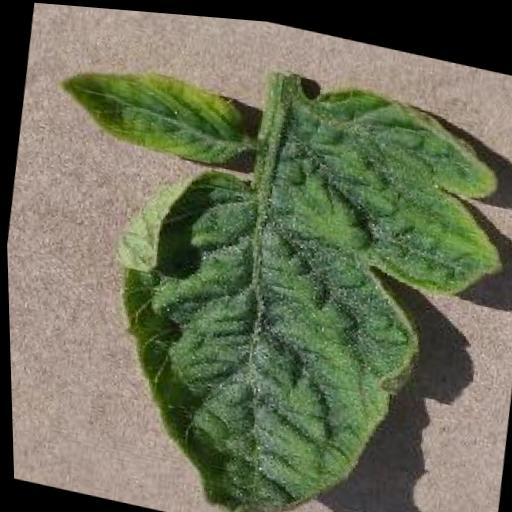Yellow Leaf Curl Virus: (79, 35, 512, 512), (55, 53, 254, 171)
